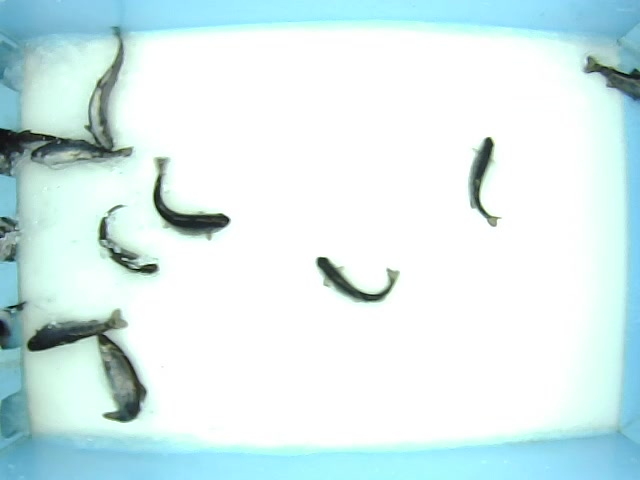fish: (149, 157, 230, 241), (83, 19, 127, 151), (97, 329, 148, 428), (24, 307, 130, 354), (97, 204, 160, 277), (313, 254, 402, 302), (30, 134, 136, 170), (467, 135, 503, 228)
